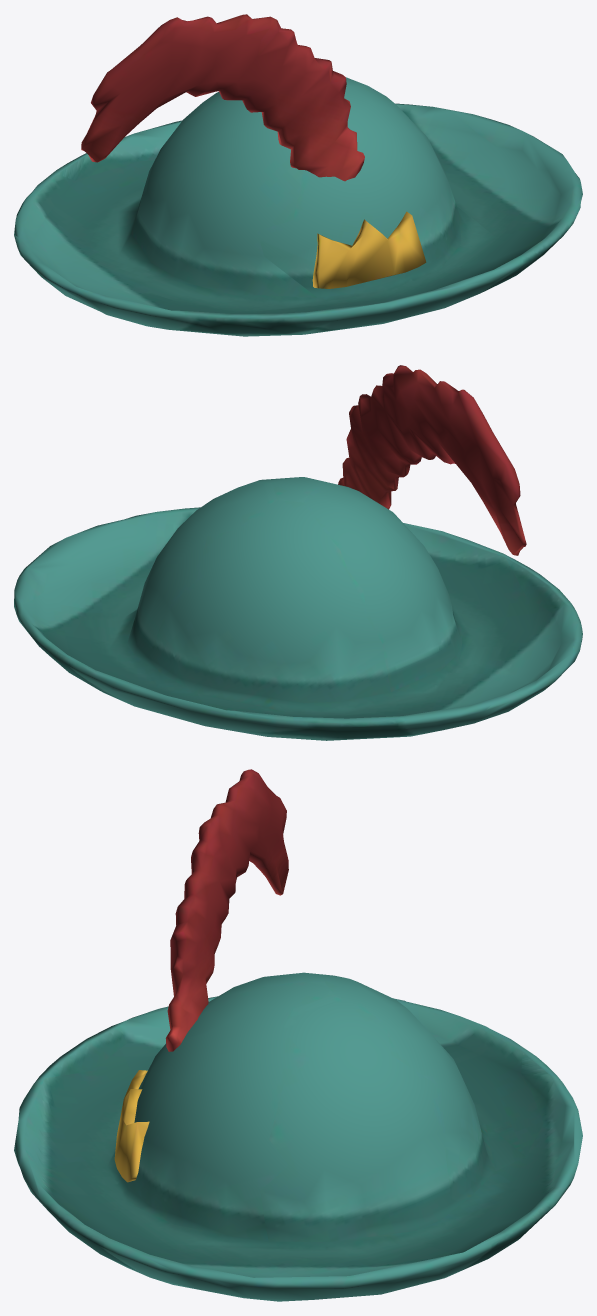
Rendered from bard-hat.glb.
3 renders of one model, top to bottom at view 1: azimuth 30°, elevation 25°; view 2: azimuth 150°, elevation 25°; view 3: azimuth 270°, elevation 25°, orthographic. The views are drawn at different scales.
Visible parts, largest first — view 1: hat; view 2: hat; view 3: hat.
Part boxes in pixels (x1=…): hat: x1=14, y1=14, x2=582, y2=336; hat: x1=14, y1=365, x2=582, y2=740; hat: x1=14, y1=769, x2=582, y2=1301.
Size of the model in its own units: 0.6872 by 0.3672 by 0.5641.
1 material, 1 textured.
